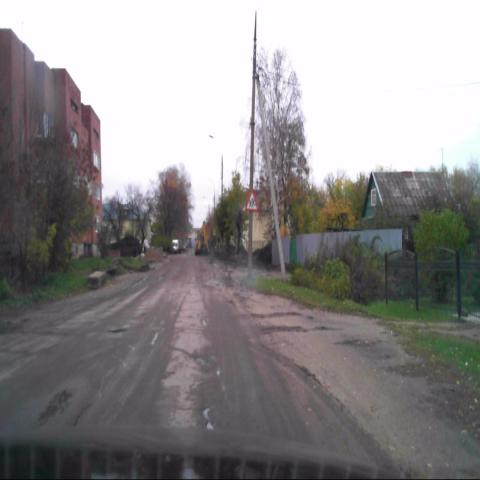1_23: (245, 190, 257, 211)
